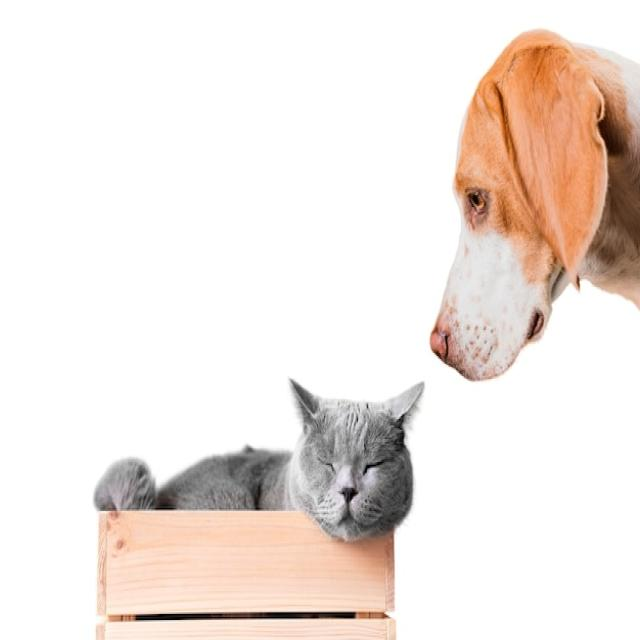Dog: (427, 24, 640, 380)
